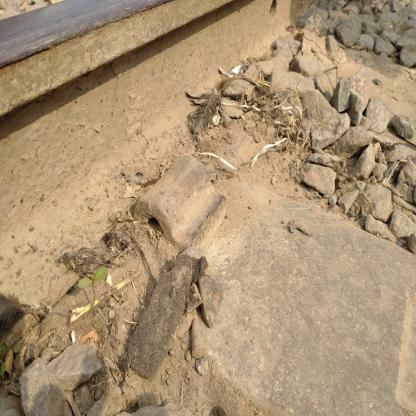Defective: (119, 132, 241, 286)
